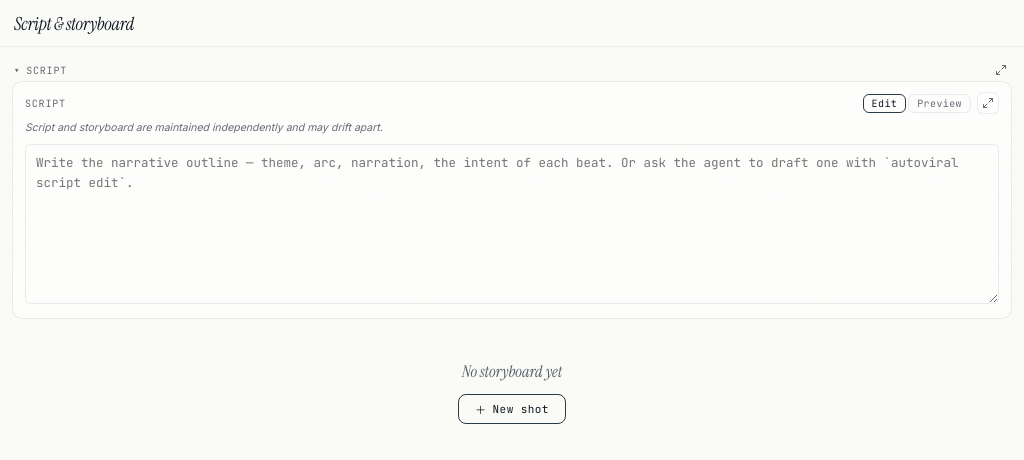
ScriptTab (T3) — ⋯ row menu, add & delete shots › a failed add surfaces a role=alert error (does not crash)
What coordinates should you click on to do the following:
click the button "＋ New shot"
I would click on:
 (512, 409)
Its box is [458,394,566,424].
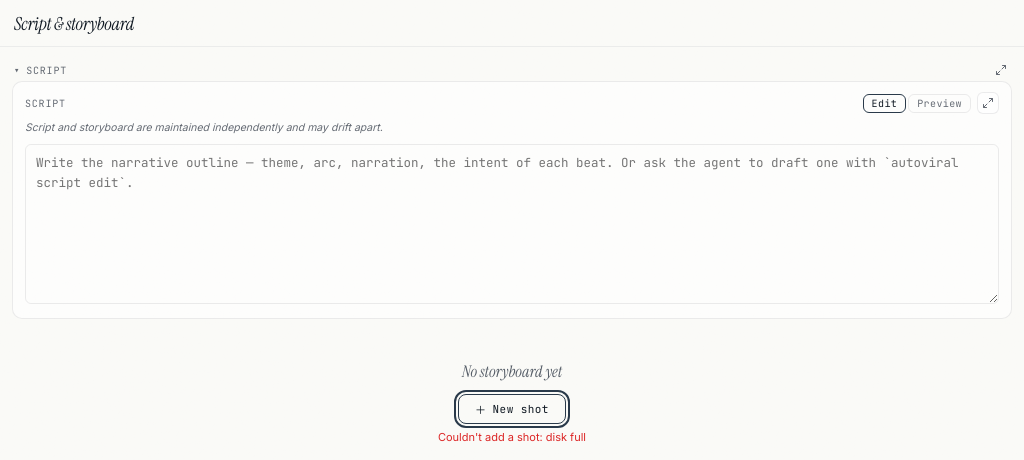
Check: the message shows "disk full", box [438,430,586,444]
